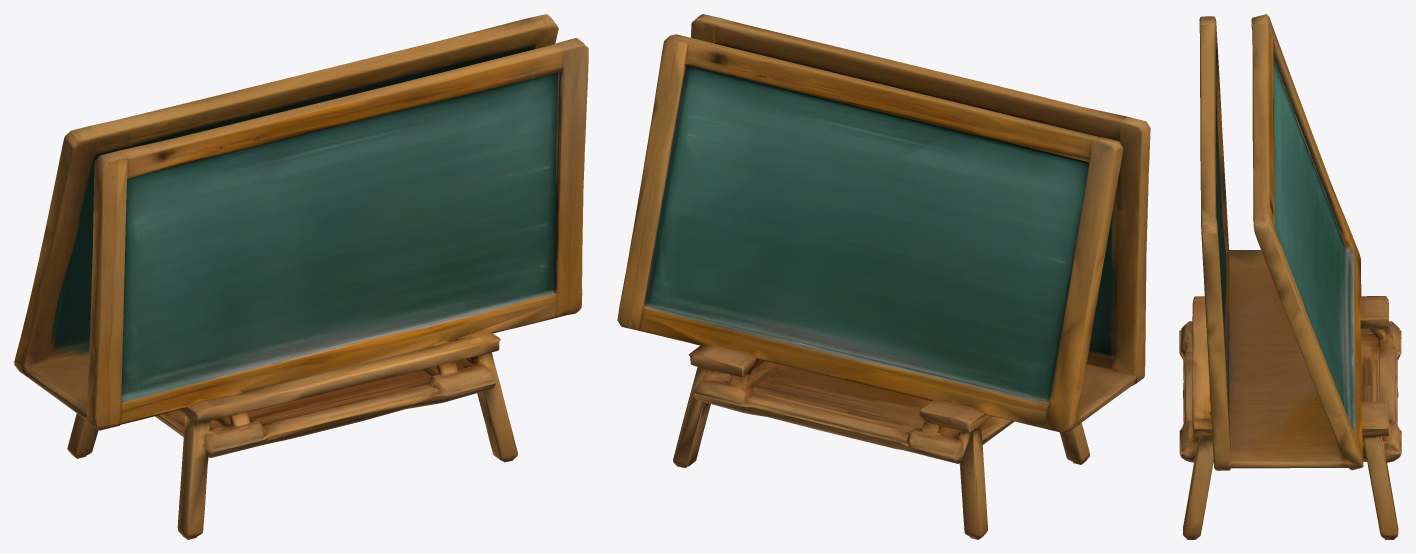
Rendered from chalkboard.glb.
3 views of the same model, side by side, from view 1: azimuth 30°, elevation 25°; view 2: azimuth 150°, elevation 25°; view 3: azimuth 270°, elevation 25° (orthographic). The views are drawn at different scales.
Parts seen in each view (by area): view 1: node_0; view 2: node_0; view 3: node_0.
Part boxes in pixels (<box>): node_0: <box>14,14,588,539</box>; node_0: <box>617,14,1150,539</box>; node_0: <box>1179,14,1401,539</box>.
Size of the model in its own units: 0.9321 by 0.7196 by 0.411.
1 material, 1 textured.
